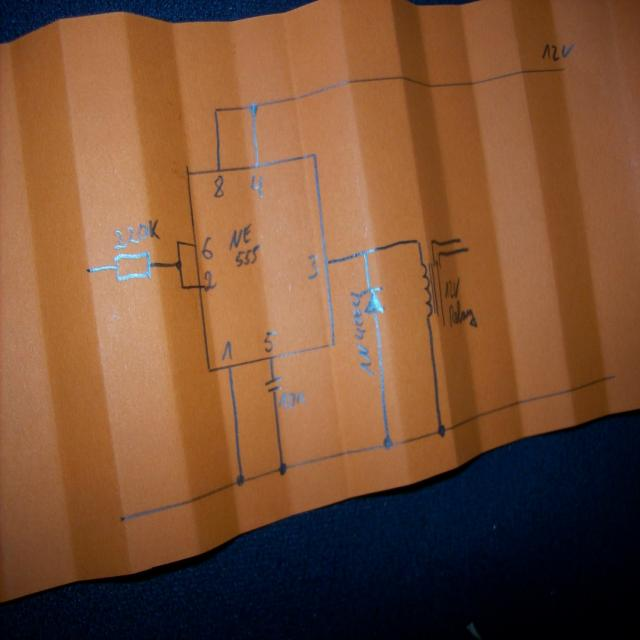capacitor: (264, 375, 284, 393)
diode: (359, 283, 387, 315)
junction: (381, 434, 394, 451), (234, 472, 246, 487), (277, 460, 288, 476), (436, 423, 447, 438), (248, 101, 259, 116), (174, 259, 183, 271), (360, 248, 369, 256), (212, 106, 220, 115), (428, 236, 435, 244), (414, 238, 421, 245), (437, 249, 442, 257), (175, 239, 181, 245), (180, 282, 184, 290)
resistor: (112, 249, 154, 282)
terminal: (116, 512, 128, 524), (557, 63, 567, 73), (84, 266, 92, 274), (463, 244, 471, 252), (610, 371, 617, 380), (456, 235, 462, 244), (442, 320, 446, 328)
text: (348, 289, 374, 376), (227, 220, 262, 268), (114, 217, 160, 249), (447, 300, 479, 330), (540, 41, 575, 62), (278, 390, 305, 410), (306, 251, 320, 280), (250, 170, 264, 199), (202, 268, 218, 292), (200, 234, 214, 261), (444, 277, 461, 298), (262, 328, 276, 353), (220, 338, 234, 362), (213, 173, 224, 199)
